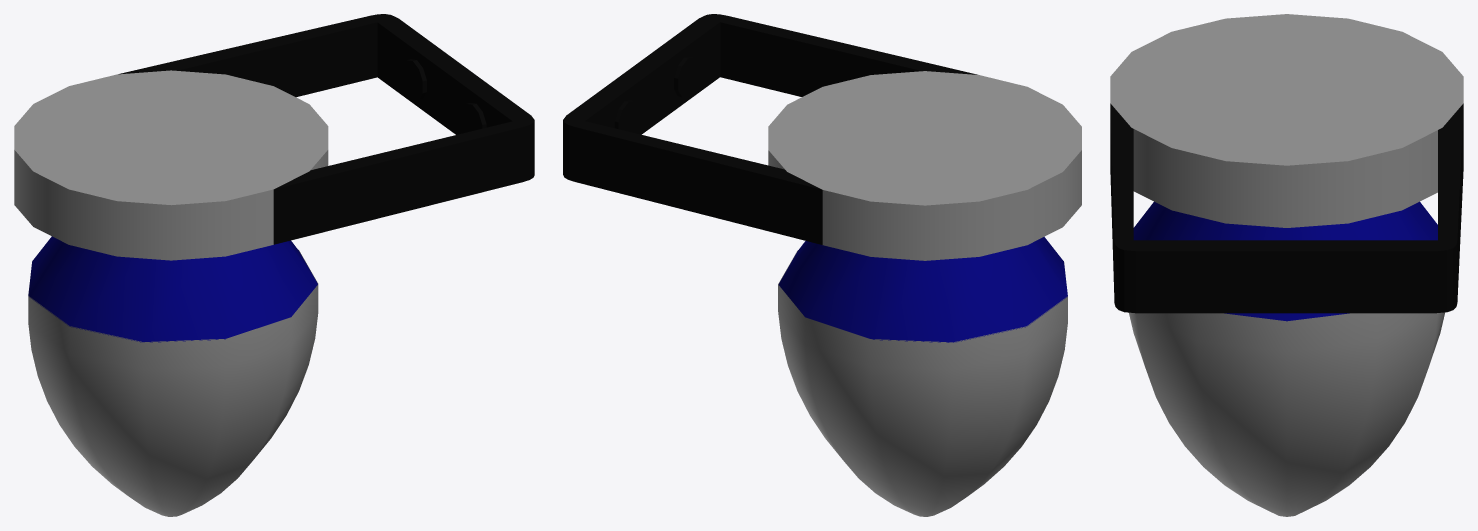
File: luces del techo.obj
3 views of the same model, side by side, from view 1: azimuth 30°, elevation 25°; view 2: azimuth 150°, elevation 25°; view 3: azimuth 270°, elevation 25° (orthographic). The views are drawn at different scales.
Visible parts, largest first — view 1: Cylinder249; view 2: Cylinder249; view 3: Cylinder249.
Part boxes in pixels (left/top/right/bottom): Cylinder249: left=14, top=14, right=534, bottom=516; Cylinder249: left=563, top=14, right=1081, bottom=516; Cylinder249: left=1110, top=14, right=1463, bottom=516.
Size of the model in its own units: 101 by 84.99 by 63.87.
